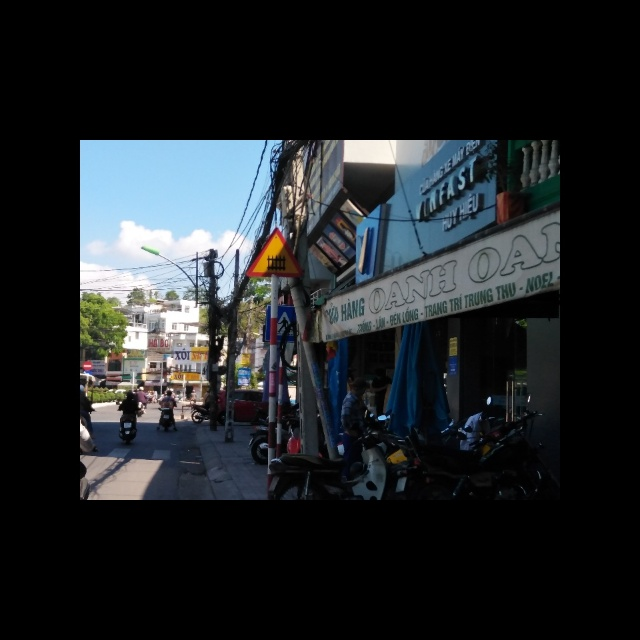Giao nhau với đường sắt có rào chắn: (245, 226, 306, 278)
